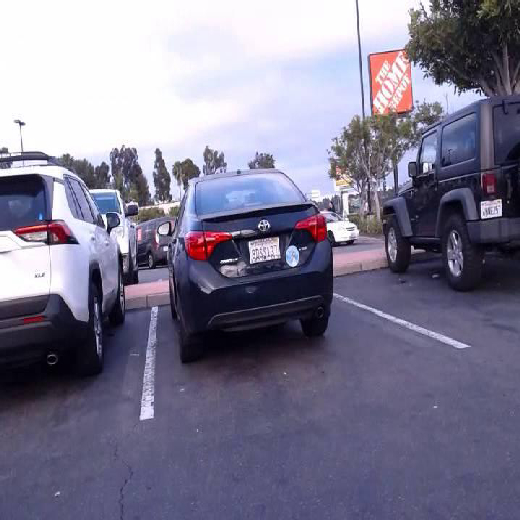license_plate: (248, 238, 280, 261), (481, 200, 502, 218)
vehicle: (159, 168, 331, 357), (0, 164, 123, 386), (380, 94, 519, 288)
